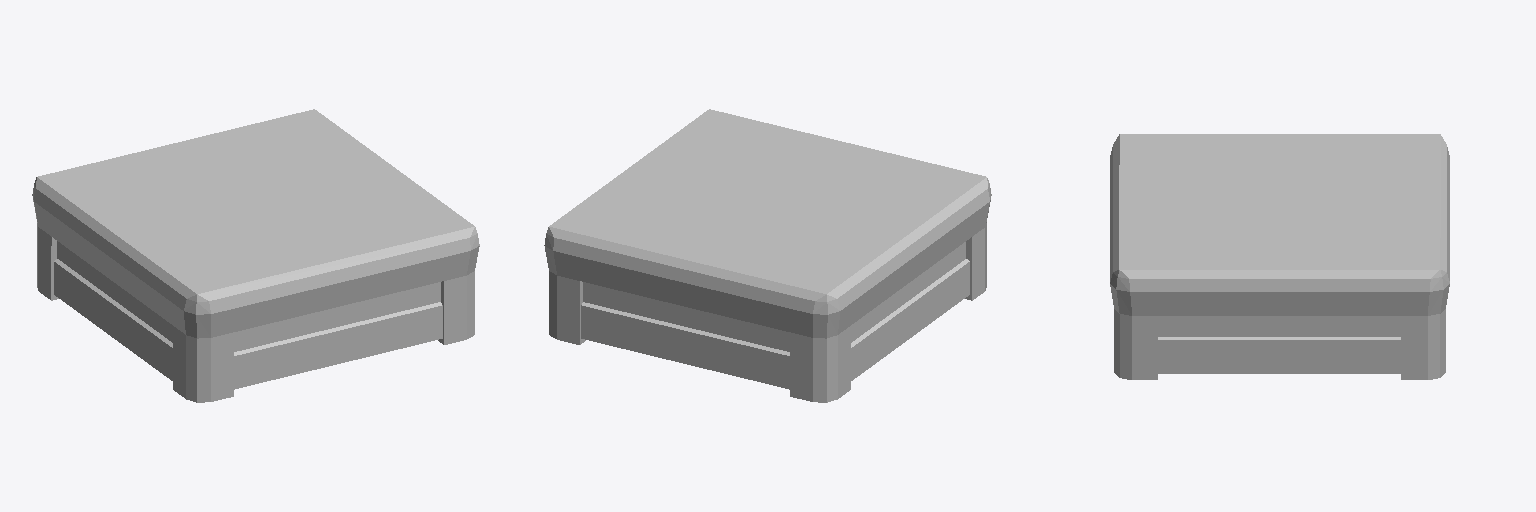
The model's file is stg600_obj_footholdD.obj.
The picture shows the model from 3 angles: view 1: azimuth 30°, elevation 25°; view 2: azimuth 150°, elevation 25°; view 3: azimuth 270°, elevation 25°; orthographic projection.
Parts seen in each view (by area): view 1: polygon3, polygon2, polygon4, polygon0; view 2: polygon3, polygon2, polygon4, polygon0; view 3: polygon3, polygon2, polygon4, polygon0.
Boxes of the visible parts, box(x1,y1,x2,y2) form: polygon3: box(32, 109, 479, 402); polygon2: box(91, 132, 421, 271); polygon4: box(54, 259, 442, 389); polygon0: box(57, 241, 440, 351); polygon3: box(544, 109, 991, 402); polygon2: box(602, 132, 932, 271); polygon4: box(581, 259, 969, 389); polygon0: box(583, 242, 965, 351); polygon3: box(1110, 134, 1449, 379); polygon2: box(1159, 150, 1400, 252); polygon4: box(1158, 337, 1400, 373); polygon0: box(1158, 316, 1400, 336).
Bounding box in the file's own units: 19.91 × 7.02 × 19.91.